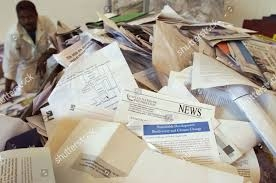paper: (51, 111, 250, 183), (149, 5, 270, 101), (39, 35, 138, 130), (112, 83, 227, 158), (136, 116, 234, 174), (190, 50, 276, 95)
